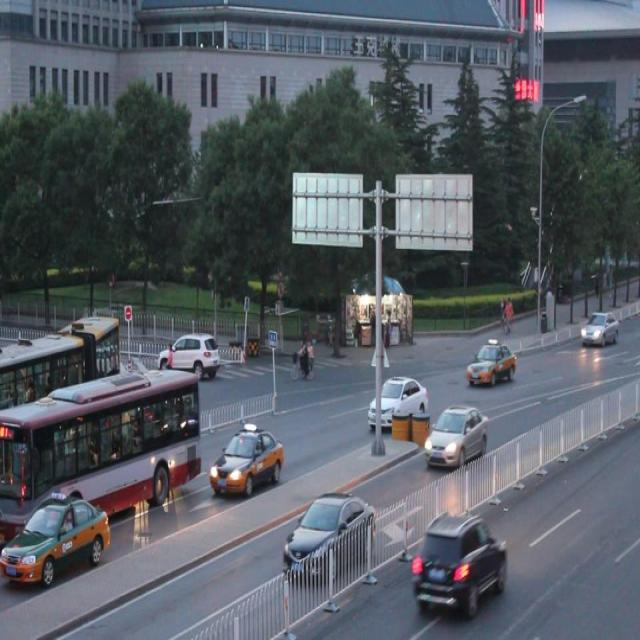car: (1, 487, 111, 586), (411, 510, 506, 616), (282, 491, 378, 582), (207, 423, 283, 500), (422, 402, 488, 469), (366, 372, 429, 434), (159, 332, 218, 384), (465, 335, 515, 390), (128, 367, 172, 413)
van: (1, 372, 200, 544), (1, 316, 121, 415)
